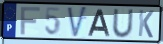5: (44, 6, 62, 37)
A: (87, 8, 112, 38)
F: (19, 6, 41, 36)
K: (137, 9, 155, 40)
U: (112, 8, 135, 39)
V: (66, 6, 88, 40)
